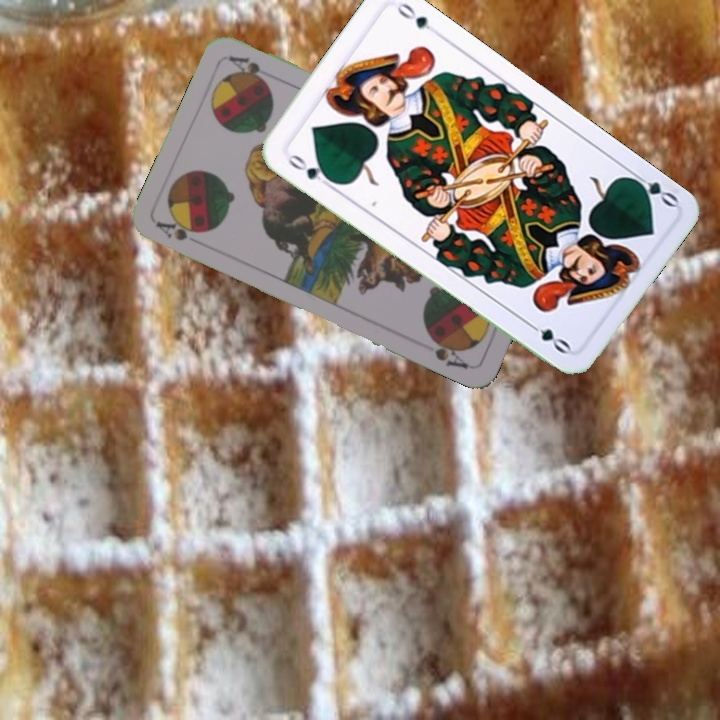GO: (624, 167, 680, 210), (283, 148, 335, 190)
SA: (152, 215, 206, 244)
